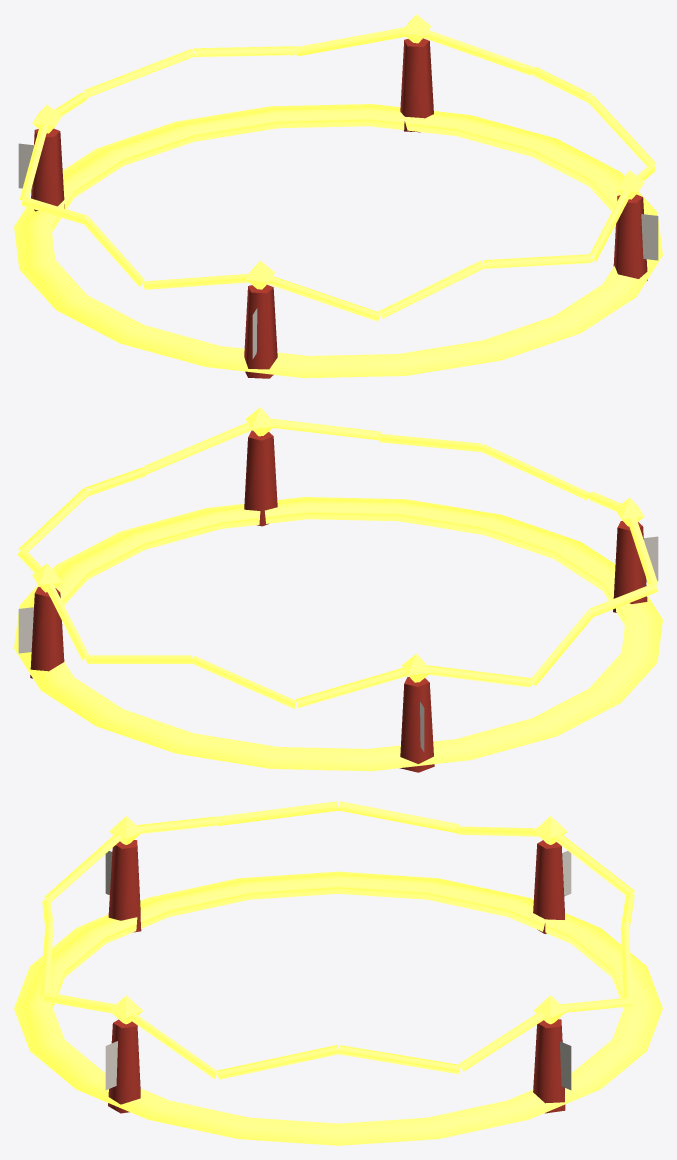
The model's file is consumable_overload.glb.
3 renders of one model, top to bottom at view 1: azimuth 30°, elevation 25°; view 2: azimuth 150°, elevation 25°; view 3: azimuth 270°, elevation 25°, orthographic.
Parts seen in each view (by area): view 1: overload_ring_band, overload_pole_1_rod, overload_pole_3_rod, overload_pole_0_rod, overload_pole_2_rod, overload_arc_0_3, overload_arc_2_3, overload_arc_3_0, overload_arc_0_2, overload_arc_2_1, overload_arc_0_1, overload_arc_2_2 (+8 smaller); view 2: overload_ring_band, overload_pole_2_rod, overload_pole_0_rod, overload_pole_3_rod, overload_pole_1_rod, overload_arc_2_0, overload_arc_3_3, overload_arc_0_0, overload_arc_0_2, overload_arc_1_3, overload_arc_2_1, overload_arc_2_2 (+8 smaller); view 3: overload_ring_band, overload_pole_1_rod, overload_pole_3_rod, overload_pole_2_rod, overload_pole_0_rod, overload_arc_3_2, overload_arc_3_1, overload_arc_1_1, overload_arc_1_2, overload_arc_3_0, overload_arc_2_0, overload_arc_3_3 (+13 smaller).
Part boxes in pixels (box(x1,y1,x2,y2)): overload_ring_band: box(14, 104, 662, 378); overload_pole_1_rod: box(244, 284, 277, 378); overload_pole_3_rod: box(400, 38, 433, 132); overload_pole_0_rod: box(613, 194, 647, 280); overload_pole_2_rod: box(31, 128, 64, 211); overload_arc_0_3: box(268, 276, 380, 321); overload_arc_2_3: box(295, 27, 405, 56); overload_arc_3_0: box(424, 29, 532, 75); overload_arc_0_2: box(378, 260, 485, 318); overload_arc_2_1: box(84, 48, 195, 97); overload_arc_0_1: box(482, 254, 593, 268); overload_arc_2_2: box(193, 46, 299, 57); overload_ring_band: box(14, 497, 662, 771); overload_pole_2_rod: box(400, 677, 434, 772); overload_pole_0_rod: box(244, 430, 277, 526); overload_pole_3_rod: box(30, 587, 64, 678); overload_pole_1_rod: box(613, 521, 647, 612); overload_arc_2_0: box(295, 667, 407, 707); overload_arc_3_3: box(144, 421, 251, 473); overload_arc_0_0: box(270, 418, 380, 440); overload_arc_0_2: box(481, 444, 589, 500); overload_arc_1_3: box(426, 665, 532, 687); overload_arc_2_1: box(191, 655, 295, 708); overload_arc_2_2: box(85, 655, 192, 663); overload_ring_band: box(14, 871, 662, 1145); overload_pole_1_rod: box(108, 840, 141, 932); overload_pole_3_rod: box(533, 1019, 565, 1113); overload_pole_2_rod: box(533, 840, 564, 933); overload_pole_0_rod: box(108, 1019, 140, 1113); overload_arc_3_2: box(217, 1045, 338, 1079); overload_arc_3_1: box(337, 1045, 460, 1074); overload_arc_1_1: box(216, 801, 338, 826); overload_arc_1_2: box(338, 801, 459, 833); overload_arc_3_0: box(458, 1010, 546, 1071); overload_arc_2_0: box(554, 834, 635, 895); overload_arc_3_3: box(129, 1012, 217, 1079).
Bounding box in the file's own units: 0.53 × 0.1 × 0.53.
